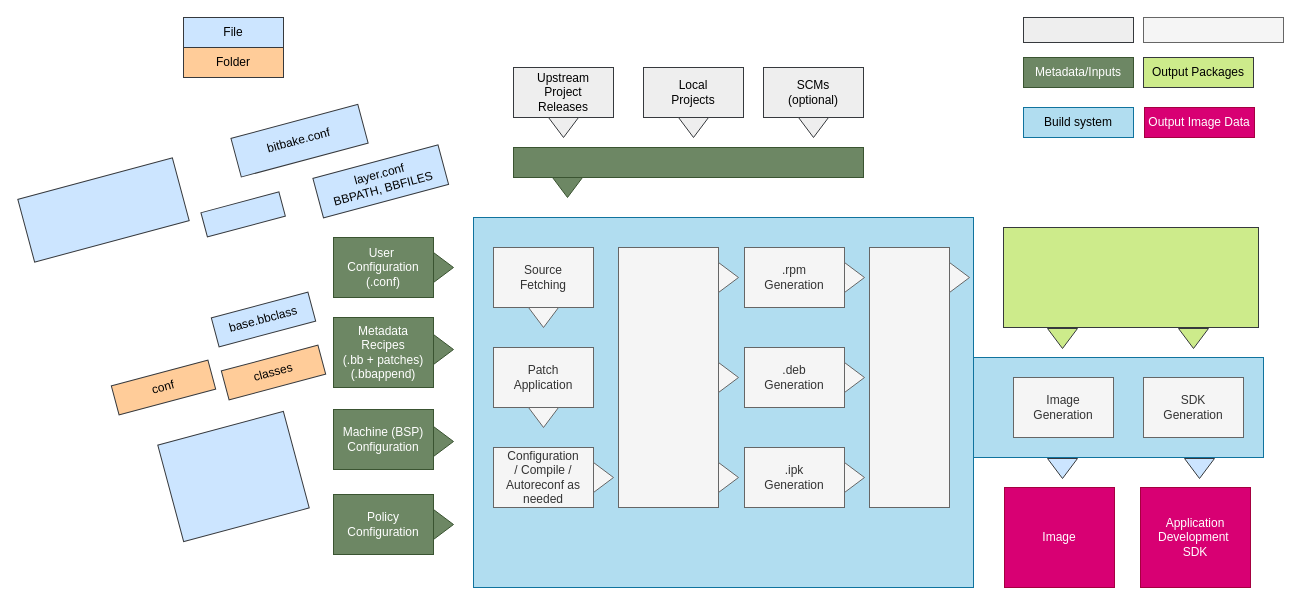
The diagram is 1301 pixels wide and 605 high, and some of its shapes have lost their labels. The centre of each missing label's shape, as x and y in pixels:
".bbappend Append files extend or override information in an existing recipe file" goes at point (233, 476).
"bblayers.conf" goes at point (242, 214).
"local.conf BB_NUMBER_THREADS PARALLEL_MAKE" goes at point (103, 209).
"Output Analysis for package splitting plus package relationships" goes at point (668, 377).
"Package Feeds" goes at point (1130, 277).
"Process steps (tasks)" goes at point (1213, 29).
"QA Tests" goes at point (909, 377).
"Source Mirror (s)" goes at point (688, 162).
"Upstream Source" goes at point (1078, 29).
